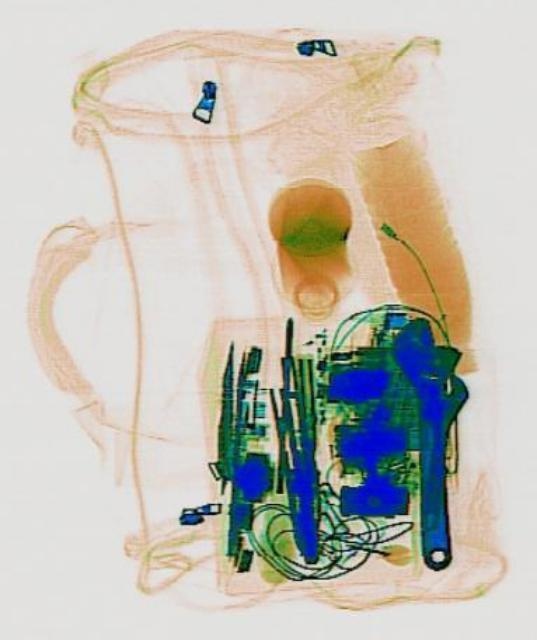Wrench: (386, 312, 474, 572)
